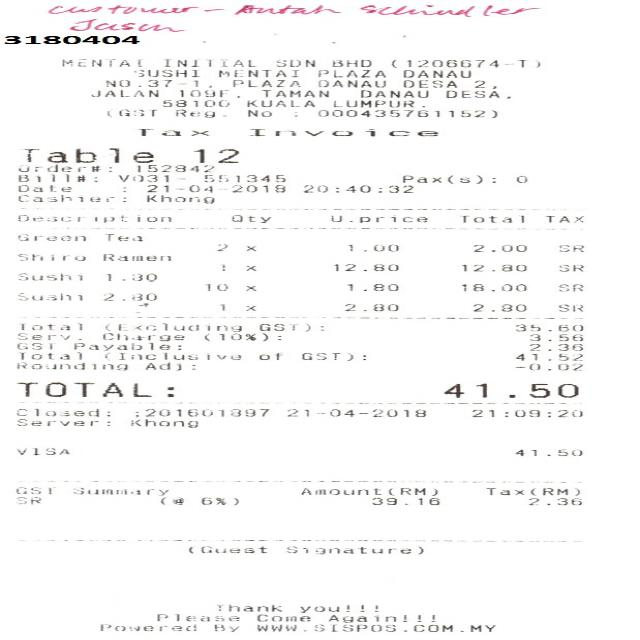text: (16, 381, 172, 397), (256, 623, 494, 631), (441, 383, 576, 397), (19, 148, 153, 162), (247, 128, 436, 136), (316, 109, 496, 117), (1, 35, 137, 44), (15, 214, 168, 222), (390, 59, 538, 67), (285, 408, 423, 416), (146, 184, 282, 192), (103, 322, 239, 330), (299, 487, 435, 495), (132, 408, 267, 416), (327, 613, 434, 622), (102, 352, 238, 359), (285, 546, 421, 553), (105, 78, 210, 87), (301, 184, 410, 192), (72, 342, 178, 350), (470, 409, 580, 416), (15, 194, 111, 202), (70, 486, 166, 494), (16, 362, 125, 369), (484, 487, 578, 495), (402, 175, 494, 183), (15, 408, 106, 416), (330, 215, 425, 222), (100, 623, 194, 630), (101, 332, 182, 340), (60, 58, 140, 66), (17, 164, 108, 171), (164, 59, 254, 66), (135, 164, 213, 172), (186, 545, 264, 553), (297, 604, 375, 612), (192, 148, 236, 162), (203, 332, 280, 340), (128, 418, 196, 427), (202, 174, 283, 181), (216, 69, 296, 76), (16, 173, 95, 180), (358, 89, 427, 97), (331, 100, 422, 106), (15, 419, 106, 425), (16, 252, 84, 260), (89, 89, 156, 97), (145, 194, 212, 202), (513, 352, 580, 360), (513, 362, 580, 370), (316, 78, 382, 86), (260, 89, 326, 97), (15, 272, 80, 280), (15, 292, 80, 300), (299, 352, 364, 360), (132, 68, 196, 76), (444, 90, 508, 98), (135, 128, 207, 135), (154, 614, 237, 620), (160, 99, 228, 106), (100, 253, 168, 260), (244, 99, 311, 106), (513, 323, 580, 330), (513, 448, 580, 455), (370, 497, 437, 504), (213, 604, 280, 611), (316, 69, 382, 76), (232, 79, 298, 86), (116, 174, 182, 181), (256, 323, 322, 330), (173, 108, 224, 117), (331, 263, 396, 270), (459, 215, 523, 222), (16, 322, 78, 329), (177, 90, 238, 97), (101, 292, 154, 300), (403, 79, 455, 87), (17, 184, 69, 192), (16, 234, 84, 240), (402, 70, 468, 76), (15, 333, 80, 339), (106, 108, 154, 116), (106, 272, 154, 280), (16, 352, 80, 358), (460, 264, 523, 270), (460, 284, 523, 290), (527, 343, 580, 350), (472, 244, 524, 251), (344, 303, 396, 310), (527, 497, 579, 504), (345, 283, 396, 290), (347, 244, 397, 251), (16, 447, 66, 454), (143, 362, 192, 369), (527, 334, 580, 340), (471, 304, 523, 310), (255, 614, 307, 620), (274, 59, 312, 66), (330, 59, 368, 66), (232, 215, 268, 222), (200, 497, 236, 504), (15, 342, 50, 349), (543, 215, 581, 221), (14, 487, 52, 493), (106, 234, 140, 240), (557, 263, 581, 271), (213, 623, 236, 631), (245, 109, 270, 116), (557, 244, 581, 251), (158, 497, 181, 504), (258, 352, 280, 359), (16, 496, 38, 503), (556, 284, 580, 290), (556, 304, 580, 310), (205, 283, 225, 290), (471, 79, 483, 87), (216, 243, 227, 251), (514, 175, 525, 182), (244, 245, 255, 251), (243, 284, 253, 290), (243, 305, 255, 310), (243, 265, 253, 270), (218, 263, 224, 271), (217, 303, 223, 310)
